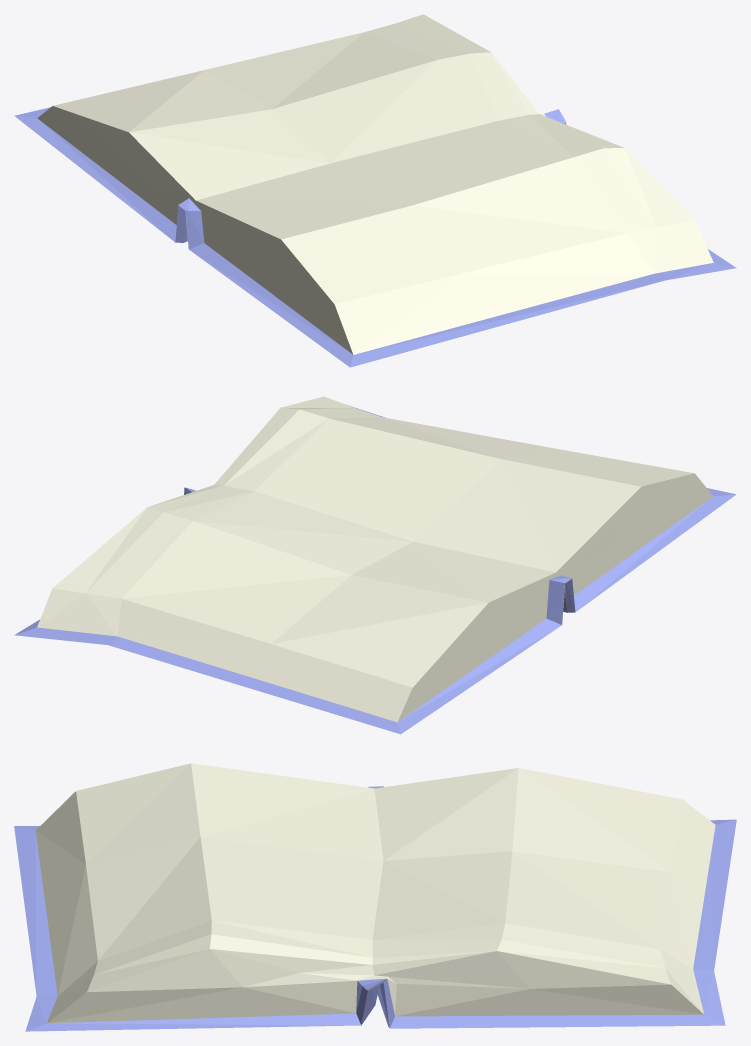
File: Libro blu aperto.fbx
The picture shows the model from 3 angles, top to bottom: view 1: azimuth 30°, elevation 25°; view 2: azimuth 150°, elevation 25°; view 3: azimuth 270°, elevation 25°; orthographic projection. The views are drawn at different scales.
Parts seen in each view (by area): view 1: Cube.003; view 2: Cube.003; view 3: Cube.003.
Part boxes in pixels (box(x1,y1,x2,y2)): Cube.003: box(14, 14, 736, 367); Cube.003: box(14, 396, 736, 734); Cube.003: box(14, 763, 736, 1031).
Bounding box in the file's own units: 206 × 36.34 × 306.
